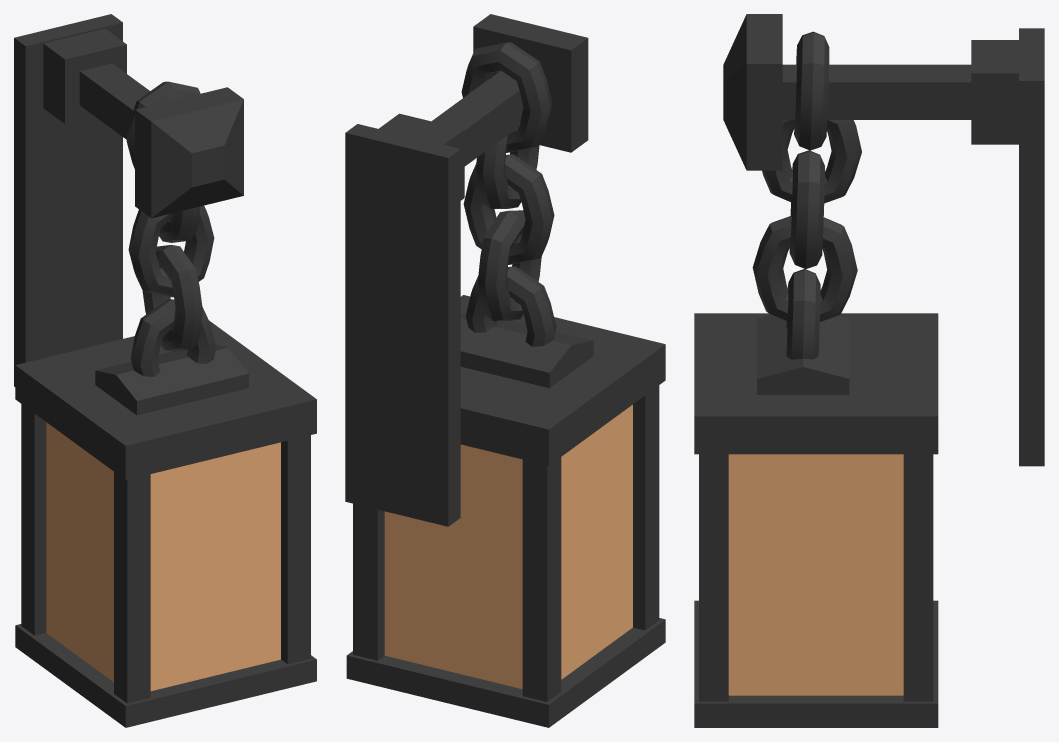
The model's file is chainlantern.fbx.
The picture shows the model from 3 angles, left to right: view 1: azimuth 30°, elevation 25°; view 2: azimuth 150°, elevation 25°; view 3: azimuth 270°, elevation 25°; orthographic projection. The views are drawn at different scales.
Visible parts, largest first — view 1: Cube.003; view 2: Cube.003; view 3: Cube.003.
Boxes of the visible parts, x1,y1,x2,y2 form: Cube.003: (14, 14, 316, 727); Cube.003: (345, 14, 665, 727); Cube.003: (694, 14, 1044, 727).
Size of the model in its own units: 0.5238 by 1.58 by 0.7526.
